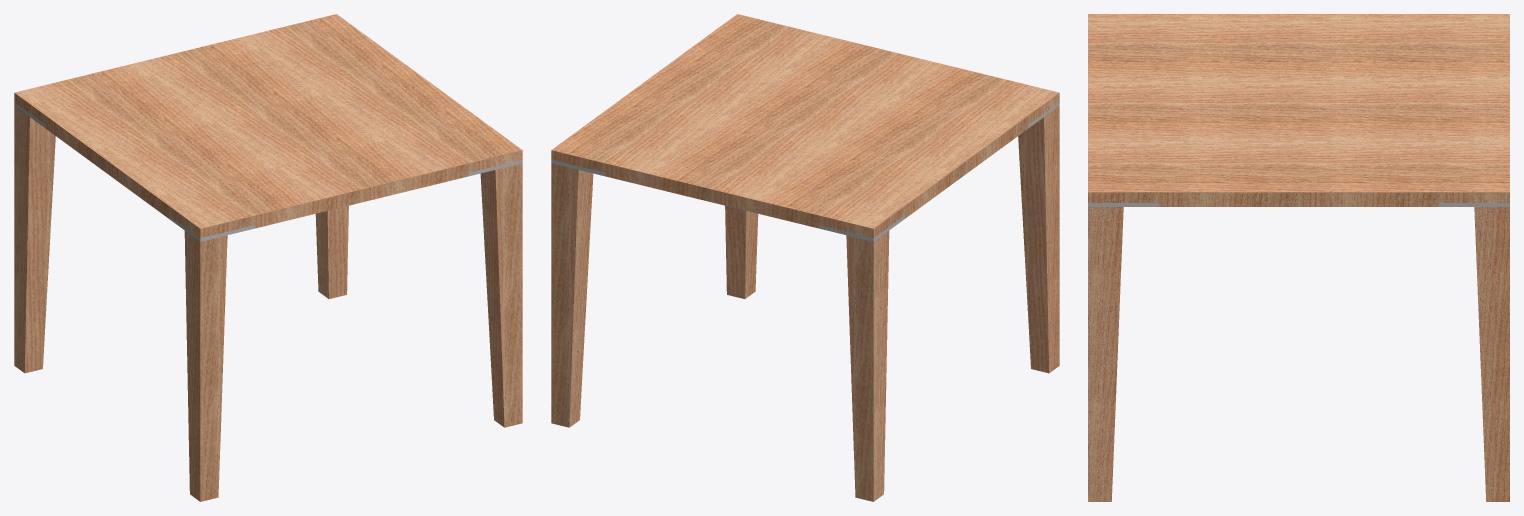
Rendered from table-round.glb.
The picture shows the model from 3 angles, left to right: view 1: azimuth 30°, elevation 25°; view 2: azimuth 150°, elevation 25°; view 3: azimuth 270°, elevation 25°; orthographic projection. The views are drawn at different scales.
Parts seen in each view (by area): view 1: t_round_a; view 2: t_round_a; view 3: t_round_a.
Boxes of the visible parts, x1,y1,x2,y2 form: t_round_a: [14, 14, 522, 501]; t_round_a: [551, 14, 1059, 501]; t_round_a: [1088, 14, 1509, 501].
Bounding box in the file's own units: 0.9017 × 0.7303 × 0.9017.
Materials: 2 (1 with a texture image).
